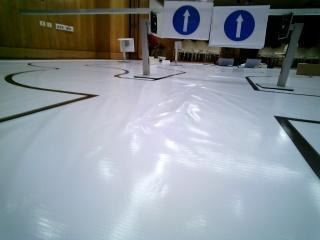straight: (211, 7, 263, 50), (162, 2, 211, 41)
